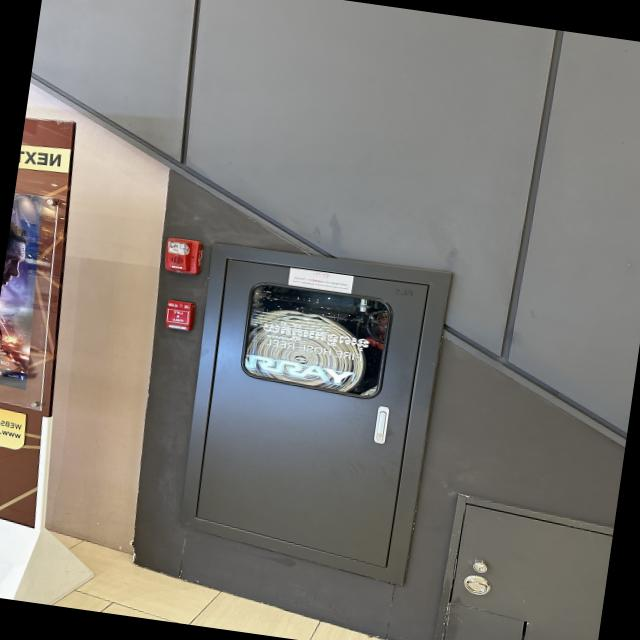Yolov11kh: (255, 312, 377, 354)
